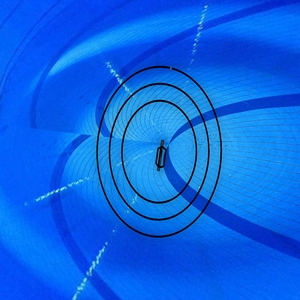circle: (95, 64, 228, 242)
submarine: (153, 139, 172, 172)
